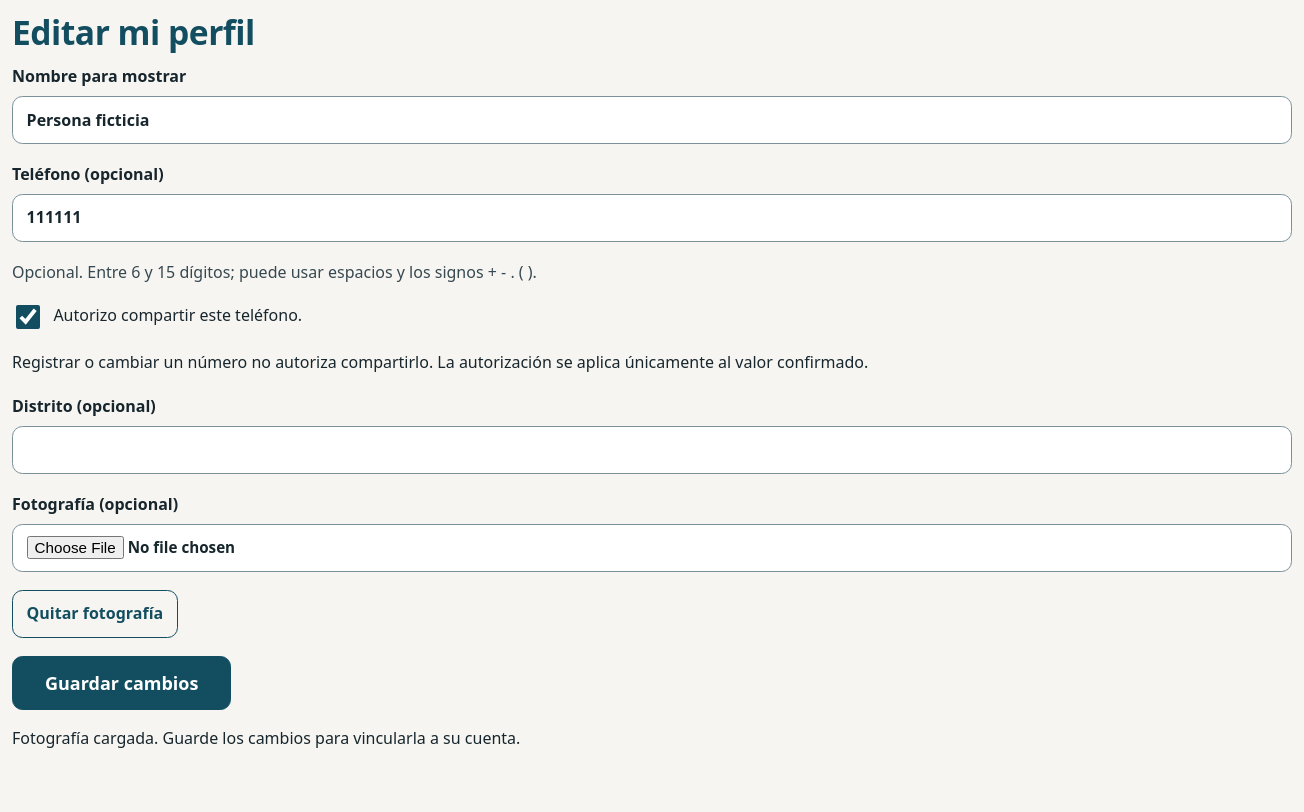
Scenario: CA-PER-02 foto cargada solo se vincula al guardar explícitamente
Earlier steps of the test are not shown.
Expected: the text "Fotografía cargada. Guarde los cambios para vincularla a su cuenta." is shown, [12,727,520,749]
Click the button "Guardar cambios" at (122, 683), box [12,656,231,710]
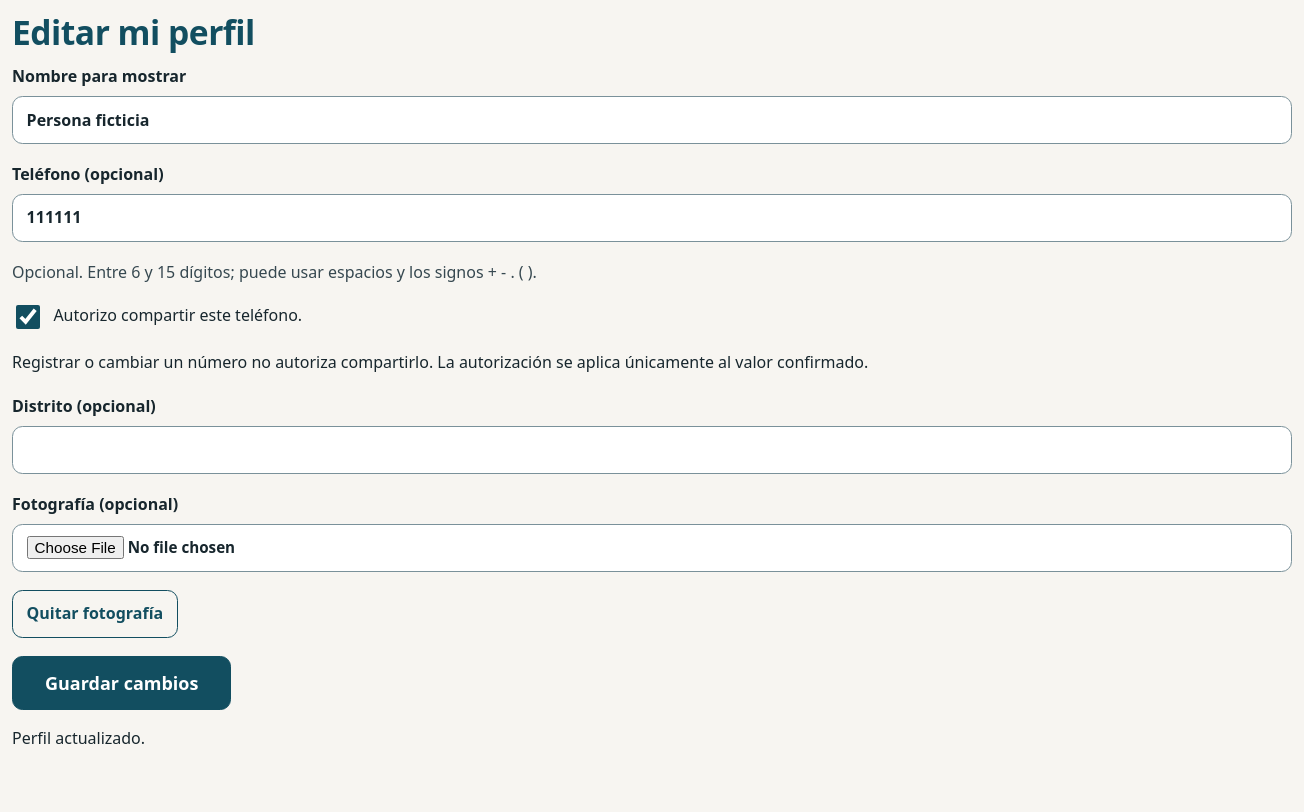
Now the text "Perfil actualizado." is shown, box [12,727,145,749]
